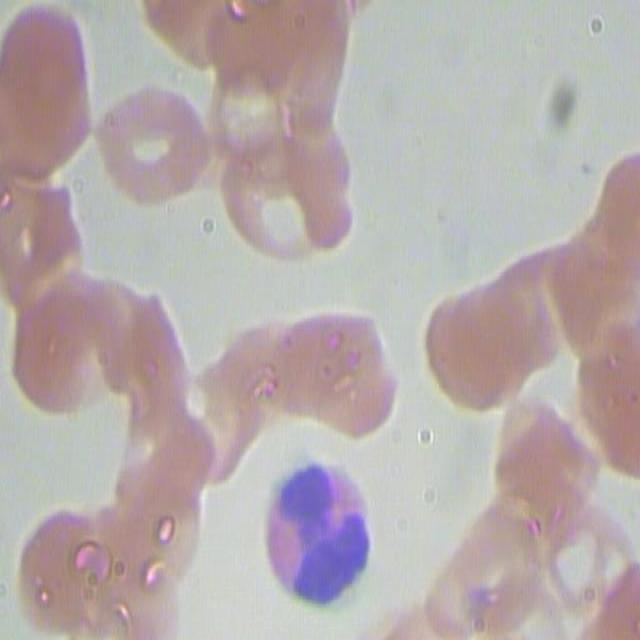RBC: (214, 102, 351, 264), (267, 303, 398, 440), (0, 0, 94, 189), (429, 494, 545, 636), (91, 82, 213, 216), (415, 286, 543, 406), (19, 502, 120, 636), (523, 502, 628, 625), (3, 174, 80, 301)
WBC: (258, 442, 381, 612)
